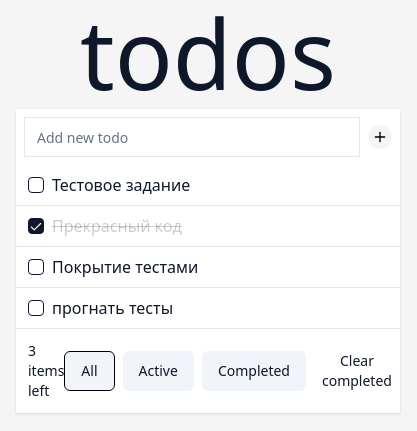
Test: Фильтрация Todo › Получение активных todo
Step 1. Click the button with test id "filterActiveButton" → click(158, 371), box x1=122 y1=351 x2=194 y2=391
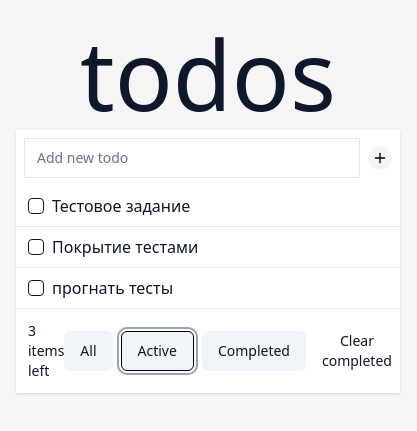
Expected: the text "Тестовое задание" is shown, x1=52 y1=198 x2=190 y2=214
Expected: the text "Прекрасный код" is gone
